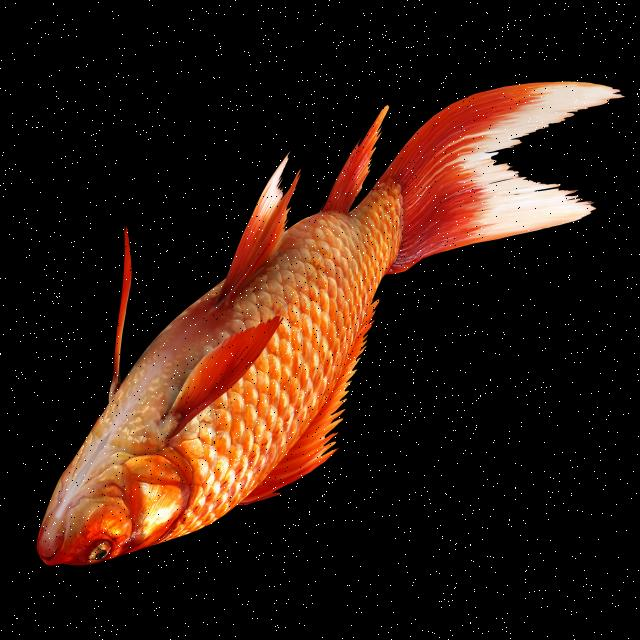Mulut: (13, 506, 91, 588)
Sirip Anal: (316, 93, 416, 231)
Sirip Dada: (136, 280, 300, 448), (89, 208, 160, 418)
Sirip Ekor: (356, 53, 630, 291)
Sirip Perut: (196, 135, 326, 325)
Sirip Punggung: (224, 284, 396, 526)
